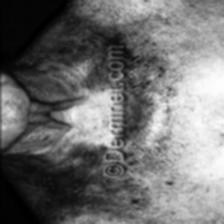Non-Cancerous Skin Condition: (0, 5, 107, 224), (85, 39, 191, 219)
